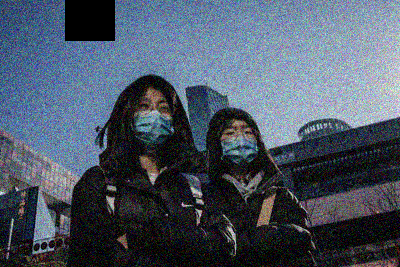with_mask: (129, 96, 175, 155), (220, 123, 260, 169)
